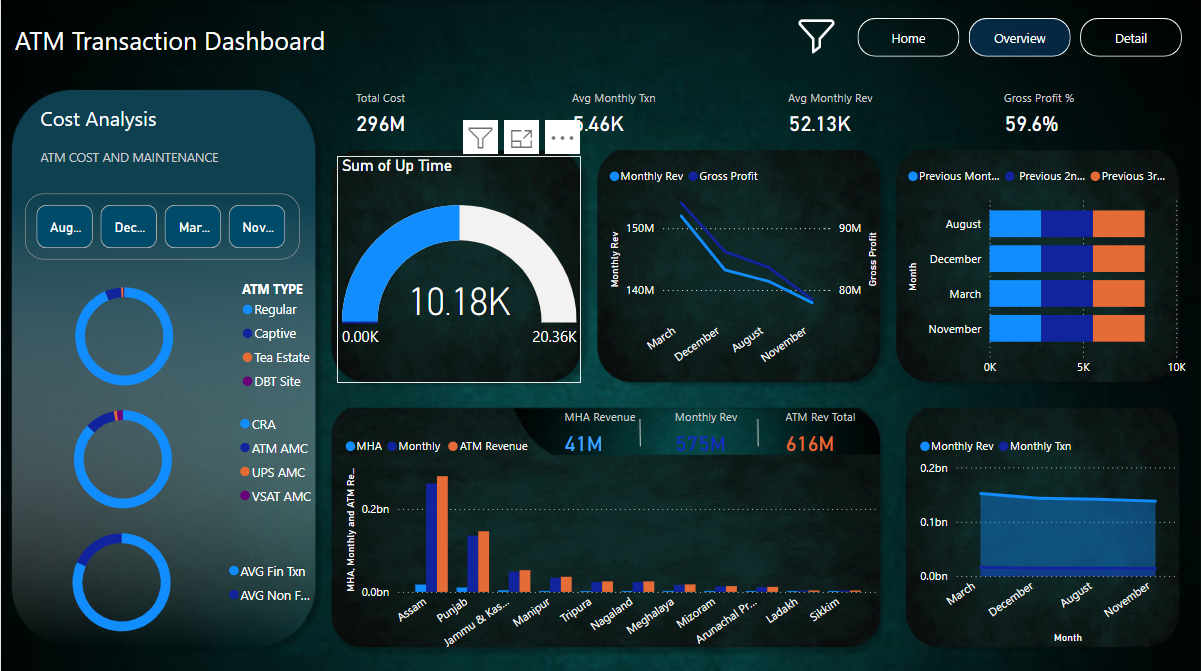

What the dashboard file says about the page in this screenshot:
{"tool":"powerbi","page":{"name":"Overview","canvas":[1280,720],"ordinal":1},"visuals":[{"type":"lineChart","fields":{"Category":["Dataset.Month"],"Y":["Sum(Dataset.Monthly Rev)"],"Y2":["Sum(Dataset. Gross Profit )"]},"box":[640,166.7,295,240],"z":0},{"type":"donutChart","fields":{"Y":["Sum(Dataset. Gross Profit )"],"Category":["Dataset.ATM TYPE"]},"box":[0,286.2,342.5,140],"z":1000},{"type":"barChart","fields":{"Category":["Dataset.Month"],"Y":["CountNonNull(Dataset.Previous Month Margin Range Above/Below 0%)","CountNonNull(Dataset.Previous 2nd Month Margin Range Above/Below 0%)","CountNonNull(Dataset.Previous 3rd Month Margin Range Above/Below 0%)"]},"box":[956.7,166.7,305,240],"z":2000},{"type":"donutChart","fields":{"Y":["Avg(Dataset.AVG Fin Txn)","Avg(Dataset.AVG Non Fin Txn)"]},"box":[10,547,333,140],"z":3000},{"type":"advancedSlicerVisual","fields":{"Values":["Dataset.Month"]},"box":[25.7,205.7,291.4,70],"z":4000},{"type":"clusteredColumnChart","fields":{"Y":["Sum(Dataset.MHA Revenue)","Sum(Dataset.Monthly Rev)","Sum(Dataset.ATM Rev Total)"],"Category":["Dataset.STATE"]},"box":[360,453.3,575,245],"z":5000},{"type":"gauge","fields":{"Y":["Sum(Dataset.Up Time)"]},"box":[357,166,259,240],"z":6000},{"type":"donutChart","fields":{"Y":["Sum(Dataset.CRA)","Sum(Dataset.ATM AMC)","Sum(Dataset.UPS AMC)","Sum(Dataset.VSAT AMC)"]},"box":[0,416.6,342.9,140],"z":7000},{"type":"textbox","box":[36.7,105,306.7,85],"z":8000},{"type":"cardVisual","fields":{"Data":["Sum(Dataset. Total Cost  )","Avg(Dataset.Monthly Txn)","Avg(Dataset.Monthly Rev)","Dataset.Gross Profit Percentage"]},"box":[359.5,77.9,921,70],"z":9000},{"type":"cardVisual","fields":{"Data":["Sum(Dataset.MHA Revenue)","Sum(Dataset.Monthly Rev)","Sum(Dataset.ATM Rev Total)"]},"box":[580,416.7,355,71.7],"z":10000},{"type":"pageNavigator","box":[908.3,18.3,345,41.7],"z":11000},{"type":"textbox","box":[10,18.3,350,60],"z":12000},{"type":"areaChart","fields":{"Category":["Dataset.Month"],"Y":["Sum(Dataset.Monthly Rev)","Sum(Dataset.Monthly Txn)"]},"box":[968.3,453.3,285,233.3],"z":13000},{"type":"image","box":[820,10,88.6,55.7],"z":14000}]}

Visuals, with their boxes in screenshot pixels (x1, y1, x2, y2), scaled from the page's 1280x720 canvas onto the 1201x671 screenshot:
lineChart - Dataset.Month x Sum(Dataset.Monthly Rev): (600, 155, 877, 379)
donutChart - Sum(Dataset. Gross Profit ) x Dataset.ATM TYPE: (0, 267, 321, 397)
barChart - Dataset.Month x CountNonNull(Dataset.Previous Month Margin Range Above/Below 0%): (898, 155, 1184, 379)
donutChart - Avg(Dataset.AVG Fin Txn) x Avg(Dataset.AVG Non Fin Txn): (9, 510, 322, 640)
advancedSlicerVisual - Dataset.Month: (24, 192, 298, 257)
clusteredColumnChart - Sum(Dataset.MHA Revenue) x Sum(Dataset.Monthly Rev): (338, 422, 877, 651)
gauge - Sum(Dataset.Up Time): (335, 155, 578, 378)
donutChart - Sum(Dataset.CRA) x Sum(Dataset.ATM AMC): (0, 388, 322, 519)
textbox: (34, 98, 322, 177)
cardVisual - Sum(Dataset. Total Cost  ) x Avg(Dataset.Monthly Txn): (337, 73, 1200, 138)
cardVisual - Sum(Dataset.MHA Revenue) x Sum(Dataset.Monthly Rev): (544, 388, 877, 455)
pageNavigator: (852, 17, 1176, 56)
textbox: (9, 17, 338, 73)
areaChart - Dataset.Month x Sum(Dataset.Monthly Rev): (909, 422, 1176, 640)
image: (769, 9, 853, 61)
